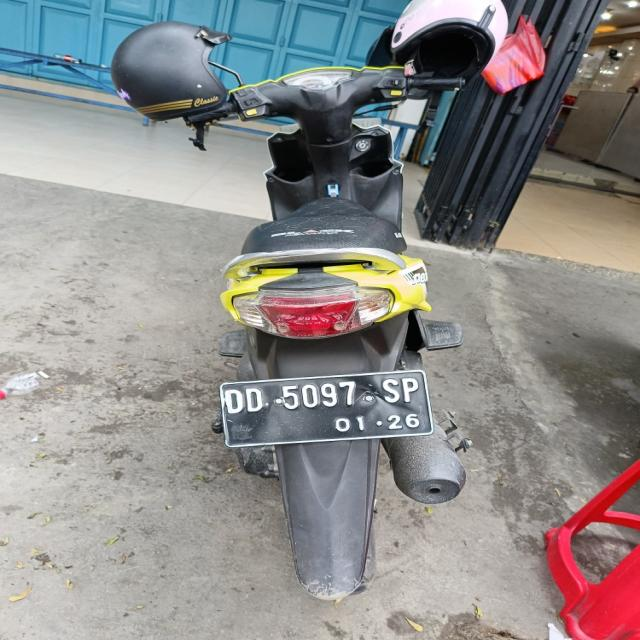plates: (207, 368, 442, 450)
